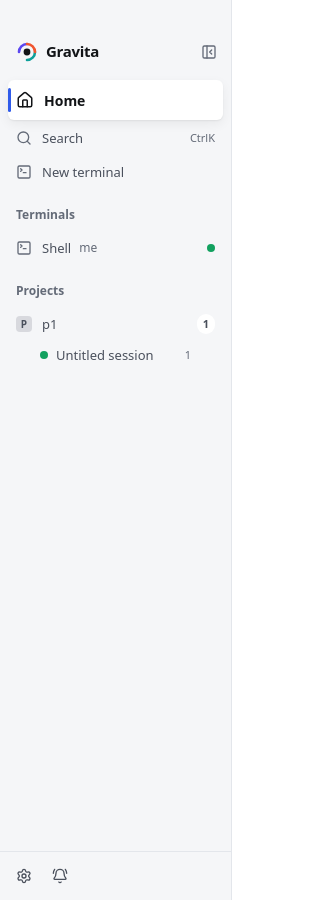
Sidebar: collapsing › folds into the icon rail, with short bars for the group titles, and opens again
Expected: the text "Projects" is shown, x1=16 y1=283 x2=64 y2=299
Click the button named "Collapse menu". click: (209, 52)
box: x1=195 y1=38 x2=223 y2=66
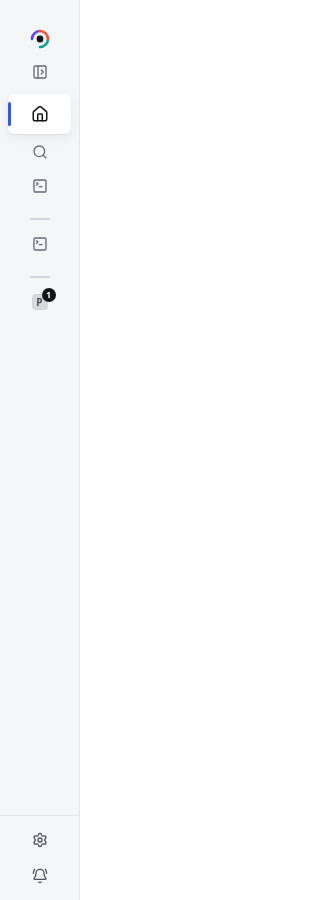
Expected: the text "Projects" is gone
Expected: the text "Terminals" is gone
Expected: the text "Gravita" is gone
Click the button named "Expand menu". click: (40, 72)
box: x1=26 y1=58 x2=54 y2=86
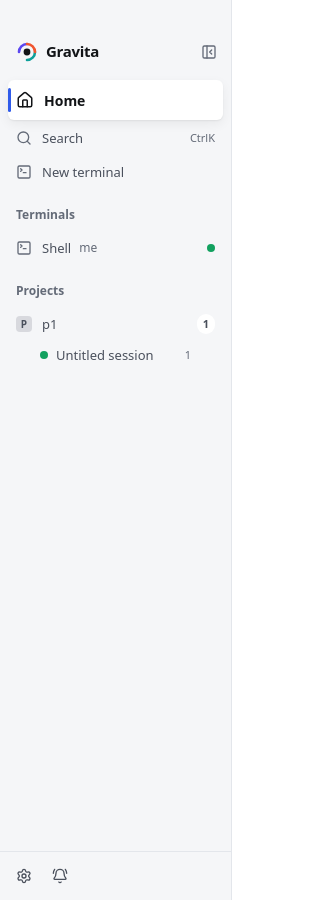
Expected: the text "Projects" is shown, x1=16 y1=283 x2=64 y2=299
